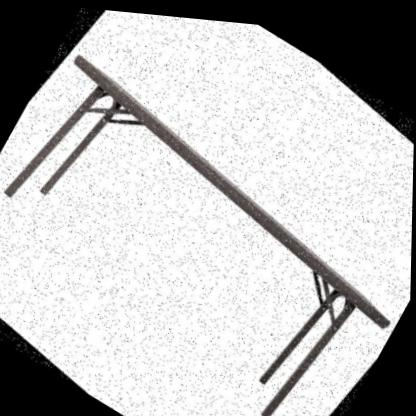Table: (0, 16, 416, 416)
